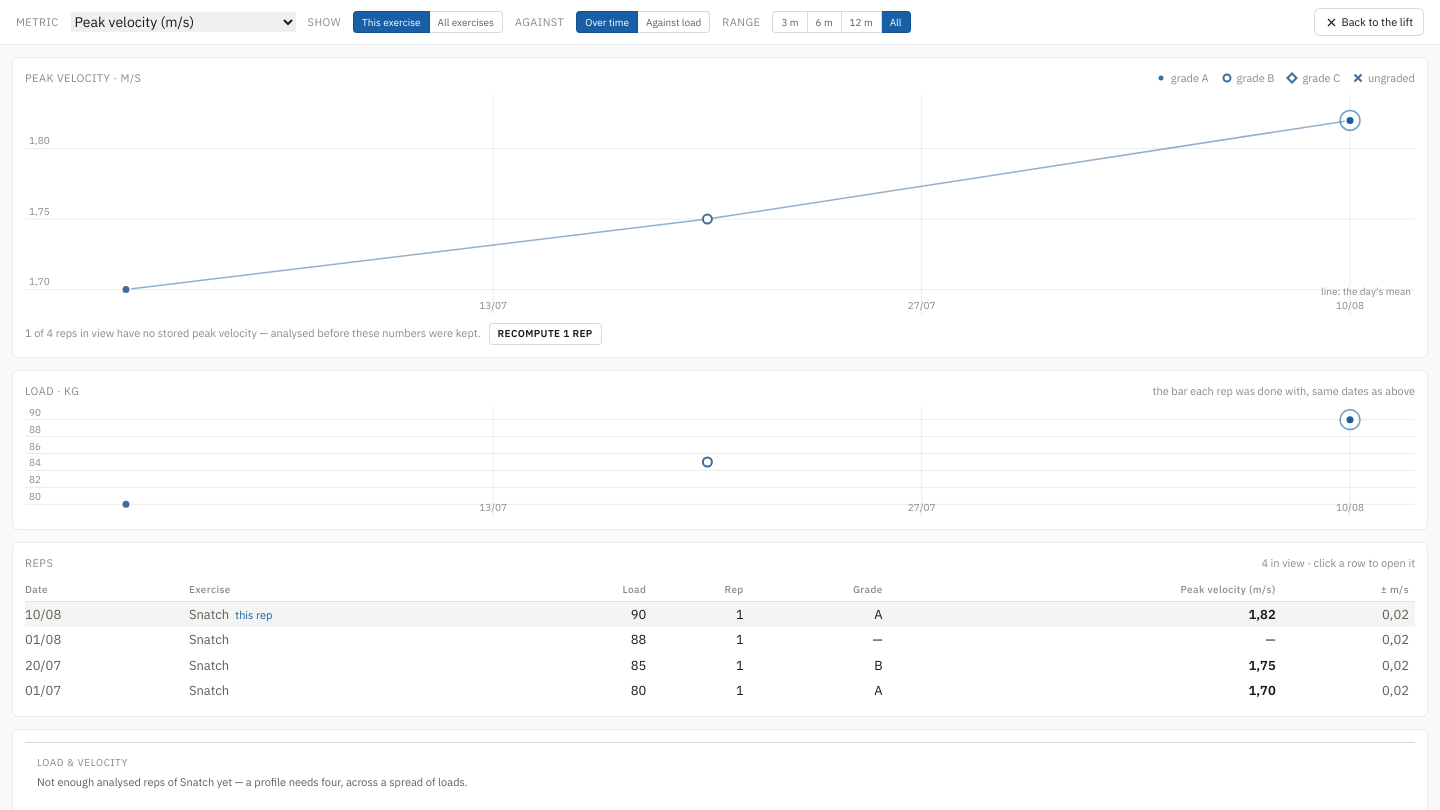
Test: TrendsView › says what a recompute could not do
The image size is (1440, 810).
Click the button "RECOMPUTE 1 REP" at point(545, 334), box [489,322,602,344]
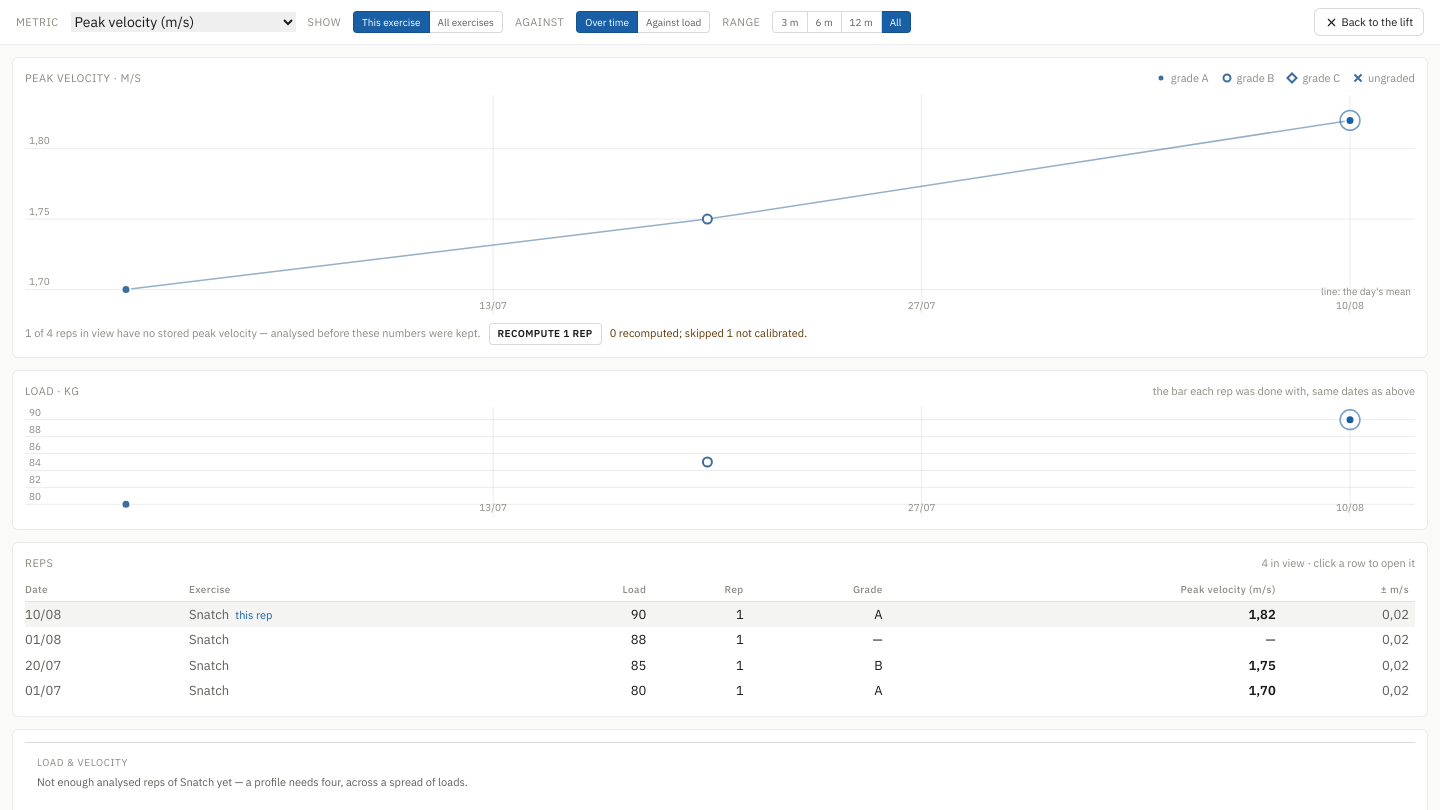
Expected: the text "0 recomputed; skipped 1 not calibrated." is shown, [610,326,807,341]
